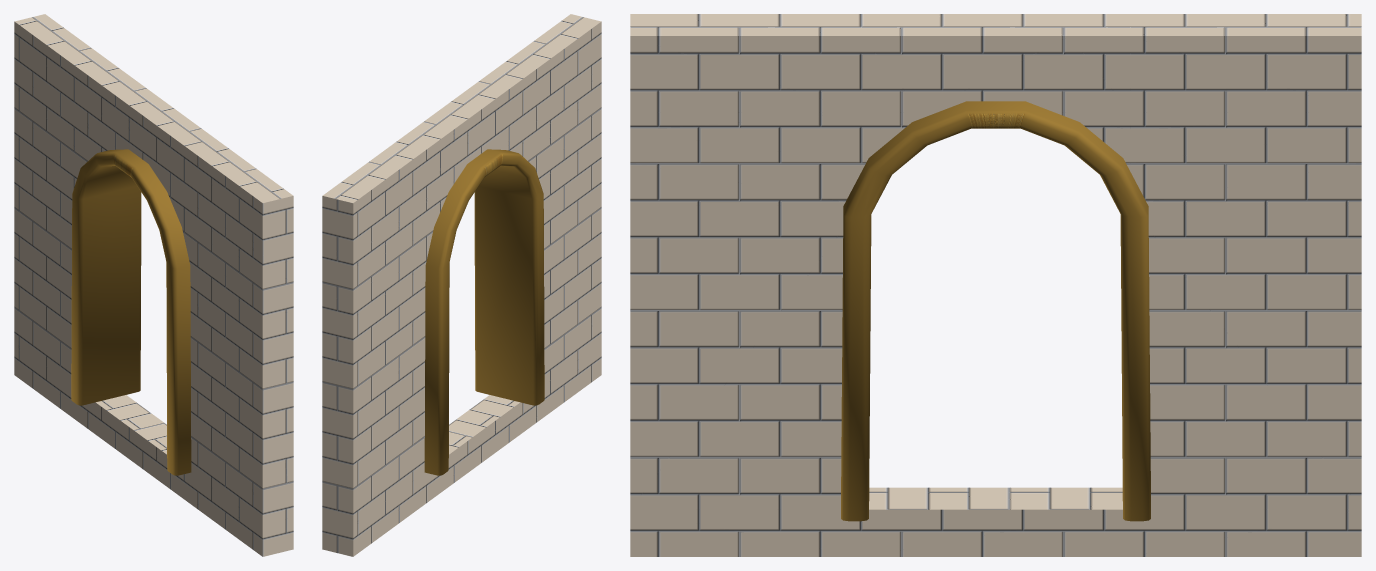
Rendered from Wall_DW_L.fbx.
3 views of the same model, side by side, from view 1: azimuth 30°, elevation 25°; view 2: azimuth 150°, elevation 25°; view 3: azimuth 270°, elevation 25° (orthographic). The views are drawn at different scales.
Parts seen in each view (by area): view 1: Wall_DW_L; view 2: Wall_DW_L; view 3: Wall_DW_L.
Part boxes in pixels (x1,y1,x2,y2): Wall_DW_L: (14,14,293,556); Wall_DW_L: (322,14,601,556); Wall_DW_L: (630,14,1361,556).
Bounding box in the file's own units: 206 × 1100 × 1400.
